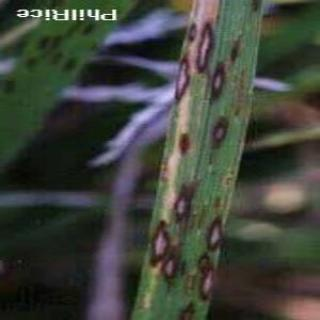Blast: (164, 22, 251, 159), (145, 186, 225, 311)
